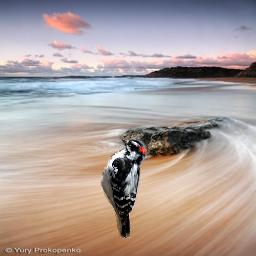Woodpecker: (100, 136, 148, 238)
